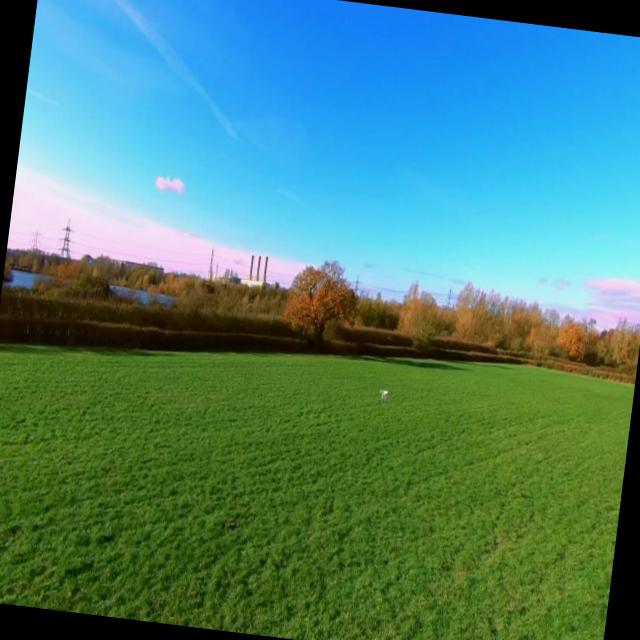drone: (377, 386, 389, 402)
